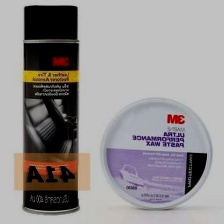aerosol_cans: (16, 2, 85, 218)
